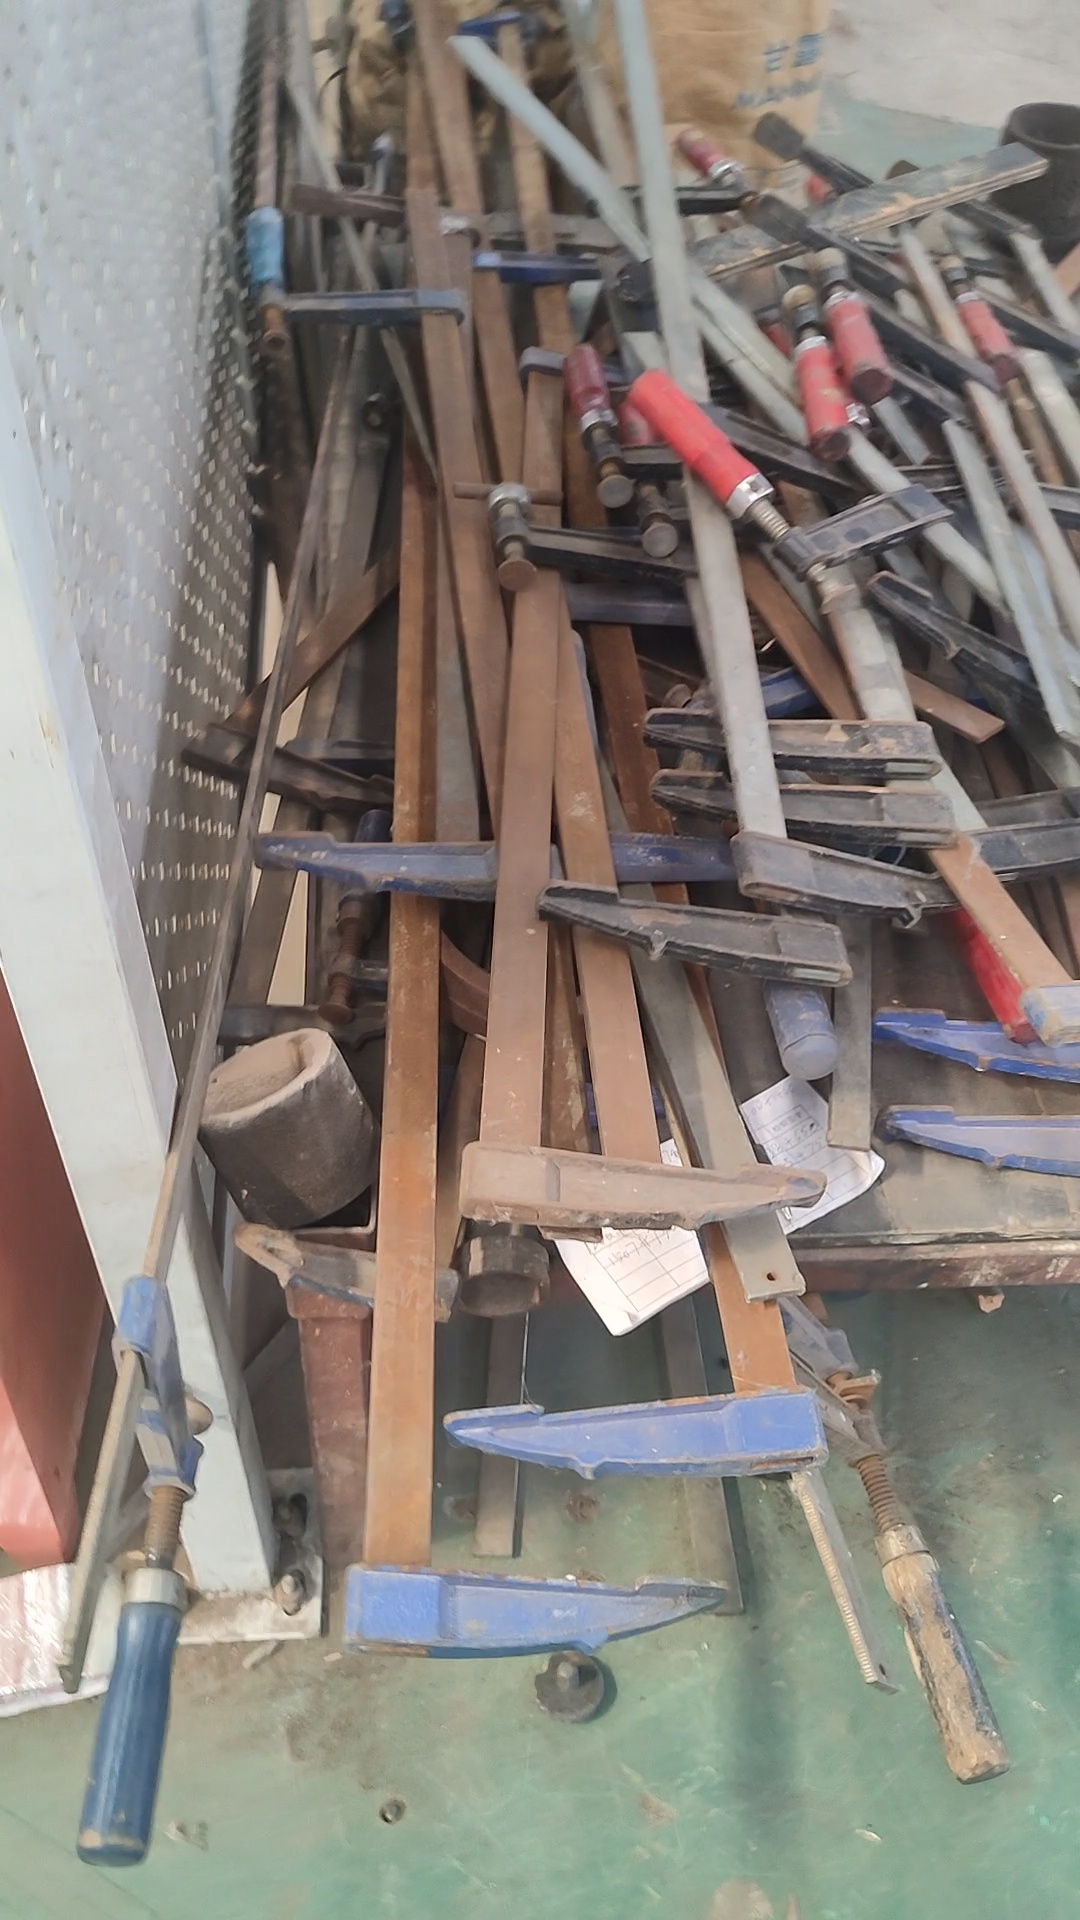pouring hole: (1009, 99, 1080, 152)
